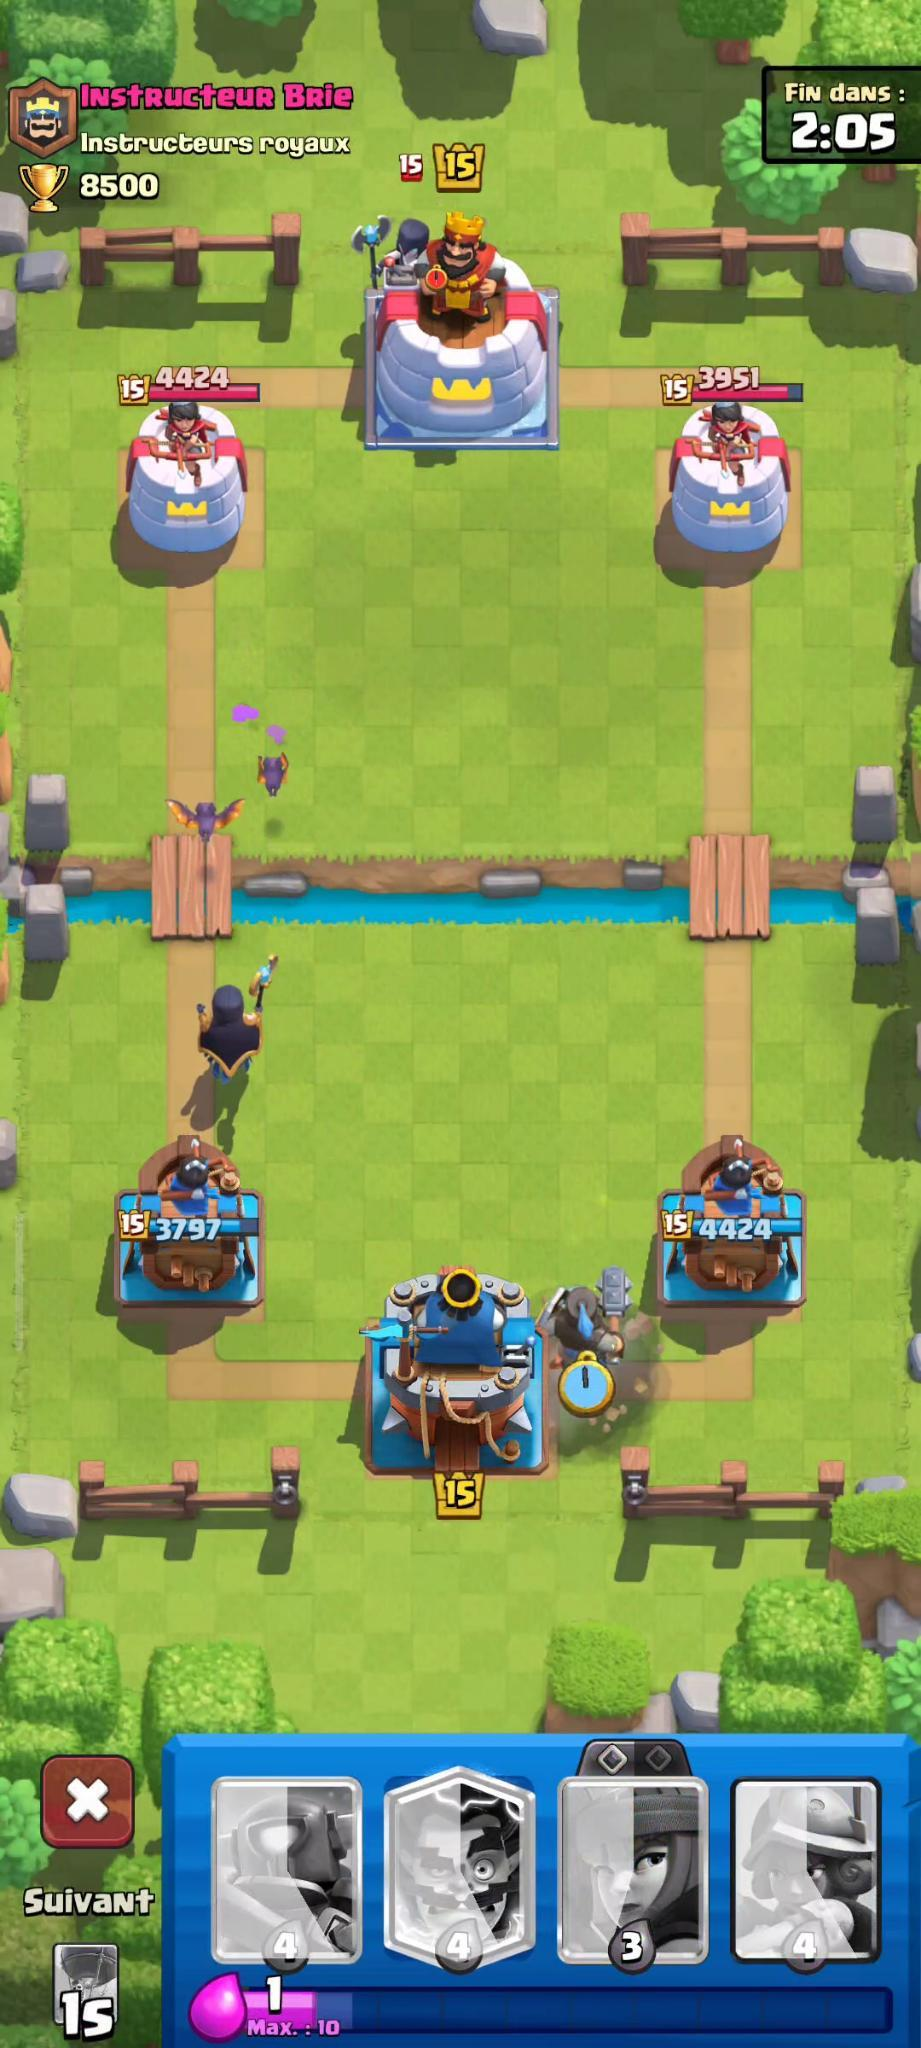enemy_night_witch: (352, 160, 425, 272)
player_night_witch: (190, 956, 279, 1085)
